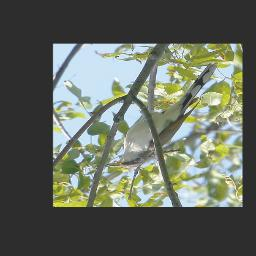Cuckoo: (106, 62, 219, 169)
